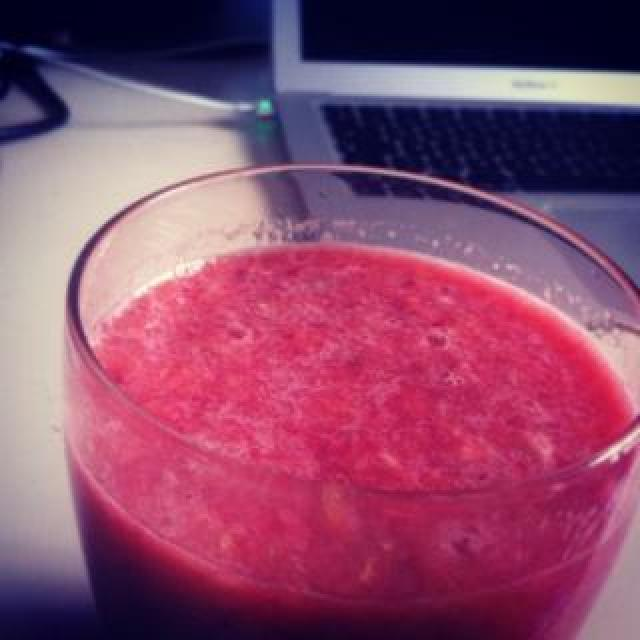laptop_computer: (252, 0, 640, 268)
